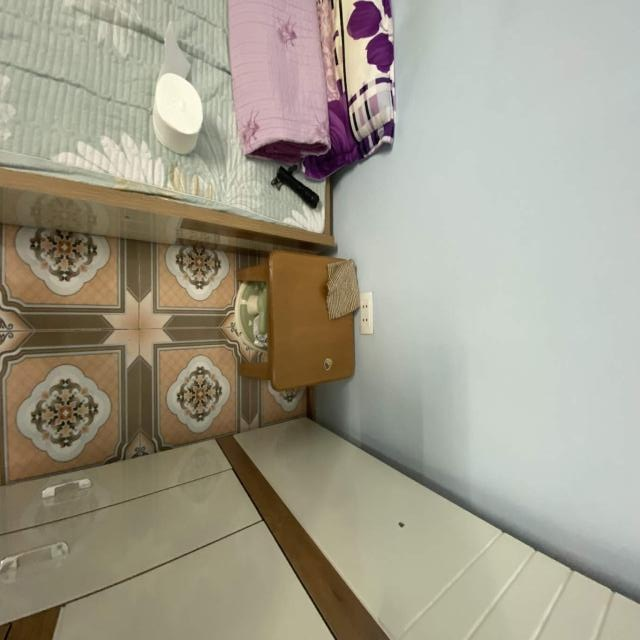outlet: (359, 292, 373, 335)
